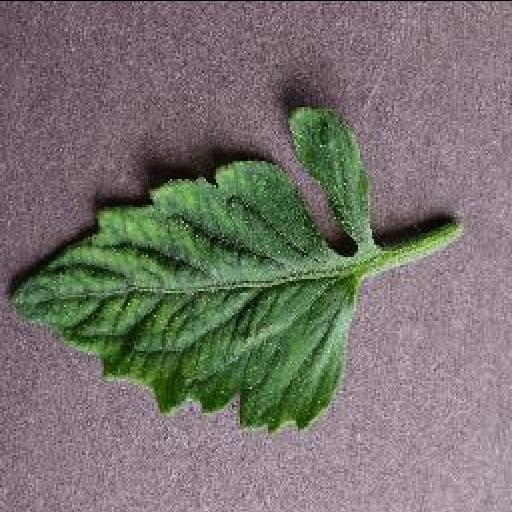disease_tomato: (6, 157, 356, 431)
